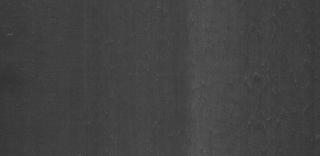silk spot: (244, 56, 304, 98), (235, 104, 311, 136), (244, 5, 290, 43), (184, 12, 223, 46), (190, 79, 216, 105)
